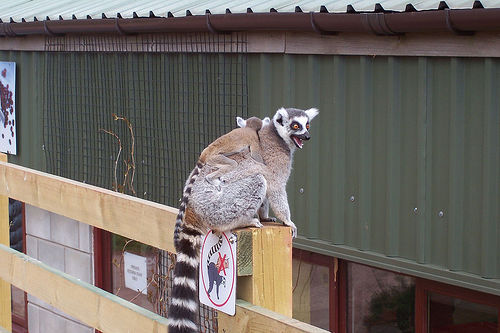cat: (168, 104, 323, 332)
